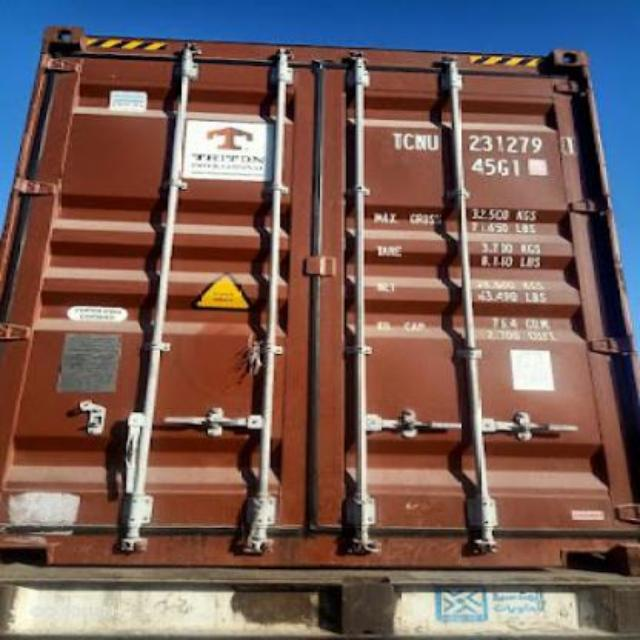1: (560, 132, 580, 156), (496, 128, 504, 158)
2: (504, 130, 520, 154), (466, 132, 482, 154)
3: (481, 128, 494, 156)
7: (520, 132, 530, 158)
9: (530, 134, 542, 156)
C: (404, 129, 416, 155)
N: (414, 128, 430, 156)
T: (388, 126, 404, 156)
U: (426, 128, 439, 156)
